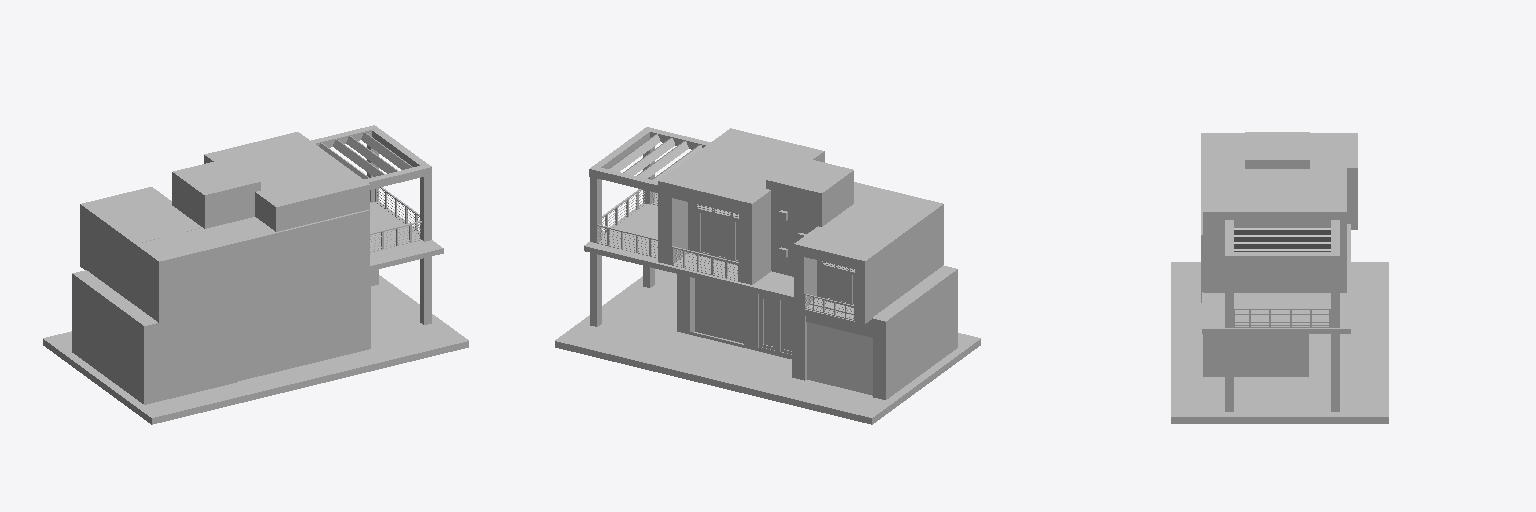
Rendered from residential_concrete_2.obj.
3 views of the same model, side by side, from view 1: azimuth 30°, elevation 25°; view 2: azimuth 150°, elevation 25°; view 3: azimuth 270°, elevation 25° (orthographic).
Parts seen in each view (by area): view 1: Cube.001; view 2: Cube.001; view 3: Cube.001.
Part boxes in pixels (x1,y1,x2,y2): Cube.001: (43,125,468,424); Cube.001: (555,127,980,424); Cube.001: (1171,132,1388,423).
Bounding box in the file's own units: 0.8609 × 0.4669 × 0.5127.